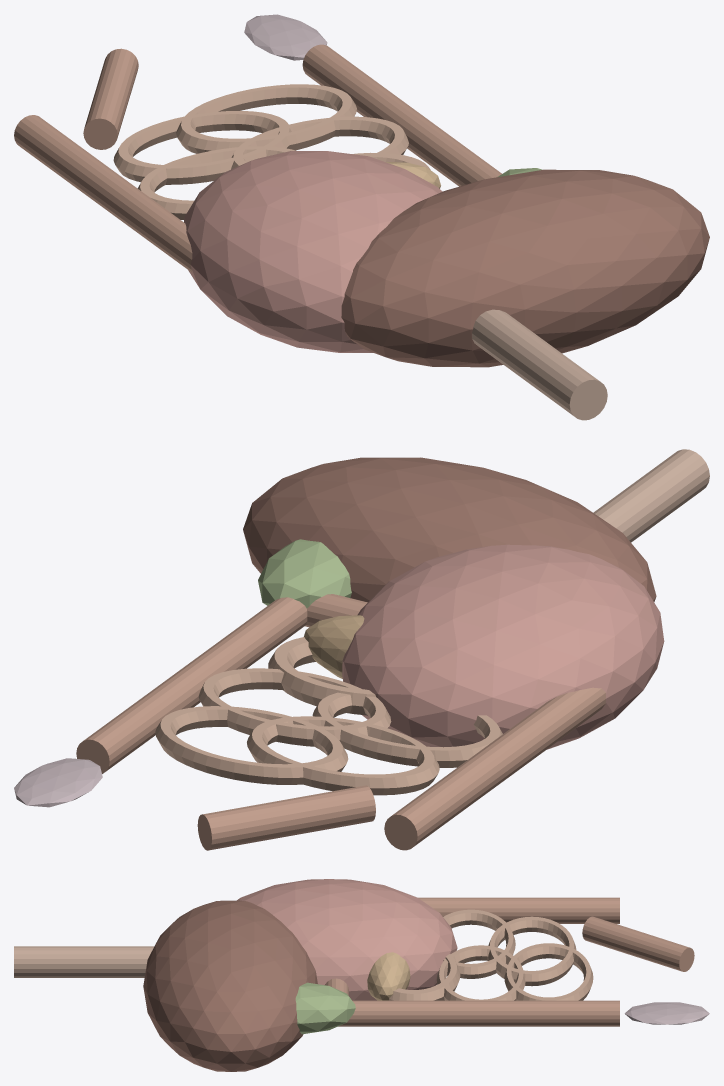
Rendered from digestive-g3-medium.glb.
3 views of the same model, one above another, from view 1: azimuth 30°, elevation 25°; view 2: azimuth 150°, elevation 25°; view 3: azimuth 270°, elevation 25° (orthographic). The views are drawn at different scales.
Parts seen in each view (by area): view 1: liver, stomach, descending_colon, ascending_colon, esophagus, small_intestine_loop_3, small_intestine_loop_4, sigmoid_colon_proxy, appendix_proxy, small_intestine_loop_2, small_intestine_loop_1; view 2: stomach, liver, descending_colon, ascending_colon, sigmoid_colon_proxy, small_intestine_loop_4, small_intestine_loop_3, esophagus, small_intestine_loop_2, gallbladder_proxy, small_intestine_loop_1, appendix_proxy (+3 smaller); view 3: liver, stomach, ascending_colon, esophagus, descending_colon, sigmoid_colon_proxy, small_intestine_loop_3, gallbladder_proxy, small_intestine_loop_4, small_intestine_loop_1, small_intestine_loop_2, pancreas (+2 smaller).
Boxes of the visible parts, x1,y1,x2,y2 form: liver: [341, 169, 709, 367]; stomach: [184, 151, 442, 352]; descending_colon: [14, 115, 192, 272]; ascending_colon: [302, 44, 501, 186]; esophagus: [472, 309, 607, 420]; small_intestine_loop_3: [113, 110, 291, 184]; small_intestine_loop_4: [176, 84, 356, 153]; sigmoid_colon_proxy: [83, 48, 138, 149]; appendix_proxy: [244, 14, 327, 60]; small_intestine_loop_2: [231, 116, 408, 169]; small_intestine_loop_1: [137, 146, 295, 219]; stomach: [342, 544, 664, 749]; liver: [243, 457, 656, 602]; descending_colon: [384, 687, 605, 850]; ascending_colon: [76, 597, 307, 773]; sigmoid_colon_proxy: [197, 785, 375, 850]; small_intestine_loop_4: [155, 706, 348, 784]; small_intestine_loop_3: [247, 716, 439, 795]; esophagus: [593, 449, 709, 542]; small_intestine_loop_2: [198, 668, 391, 746]; gallbladder_proxy: [258, 539, 351, 608]; small_intestine_loop_1: [312, 689, 502, 767]; appendix_proxy: [14, 758, 102, 807]; liver: [143, 900, 317, 1071]; stomach: [237, 879, 457, 1000]; ascending_colon: [338, 1000, 619, 1026]; esophagus: [14, 946, 154, 977]; descending_colon: [418, 897, 619, 923]; sigmoid_colon_proxy: [582, 916, 694, 971]; small_intestine_loop_3: [488, 916, 576, 986]; gallbladder_proxy: [295, 982, 355, 1034]; small_intestine_loop_4: [504, 943, 593, 1000]; small_intestine_loop_1: [443, 909, 515, 978]; small_intestine_loop_2: [436, 945, 525, 1000]; pancreas: [367, 952, 410, 1000].
Bounding box in the file's own units: 2.12 × 0.74 × 4.12.
